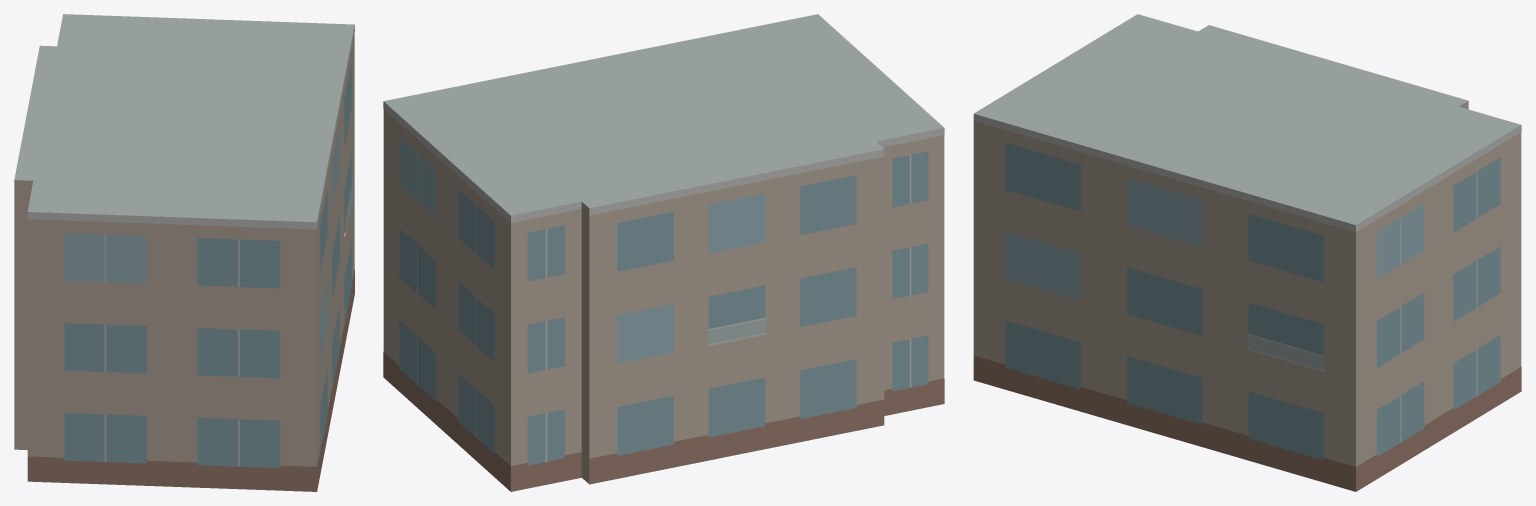
File: survey-upis-32704778.glb
The picture shows the model from 3 angles, left to right: view 1: azimuth 30°, elevation 25°; view 2: azimuth 150°, elevation 25°; view 3: azimuth 270°, elevation 25°; orthographic projection. The views are drawn at different scales.
Visible parts, largest first — view 1: survey-upis-32704778.tmp; view 2: survey-upis-32704778.tmp; view 3: survey-upis-32704778.tmp.
Part boxes in pixels (<box>): survey-upis-32704778.tmp: <box>14,14,354,491</box>; survey-upis-32704778.tmp: <box>383,14,944,491</box>; survey-upis-32704778.tmp: <box>973,14,1521,491</box>.
Size of the model in its own units: 15.55 by 9.15 by 17.04.
